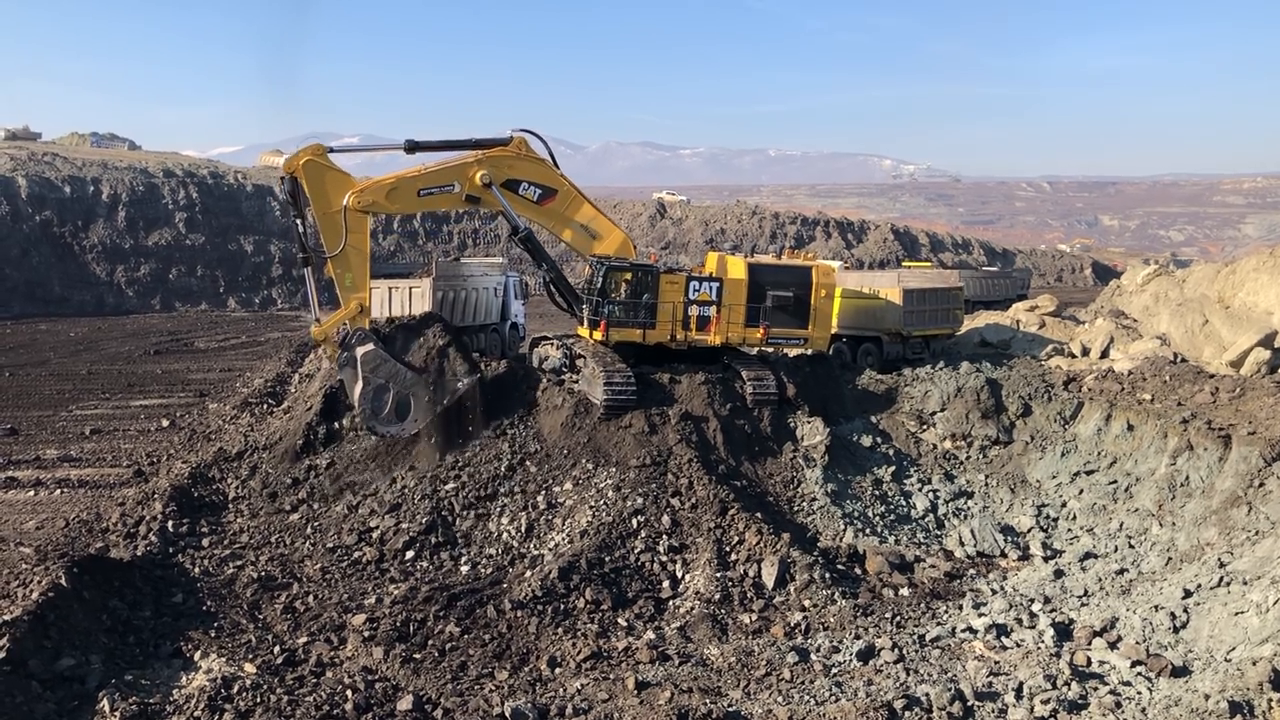full: (324, 312, 486, 445)
